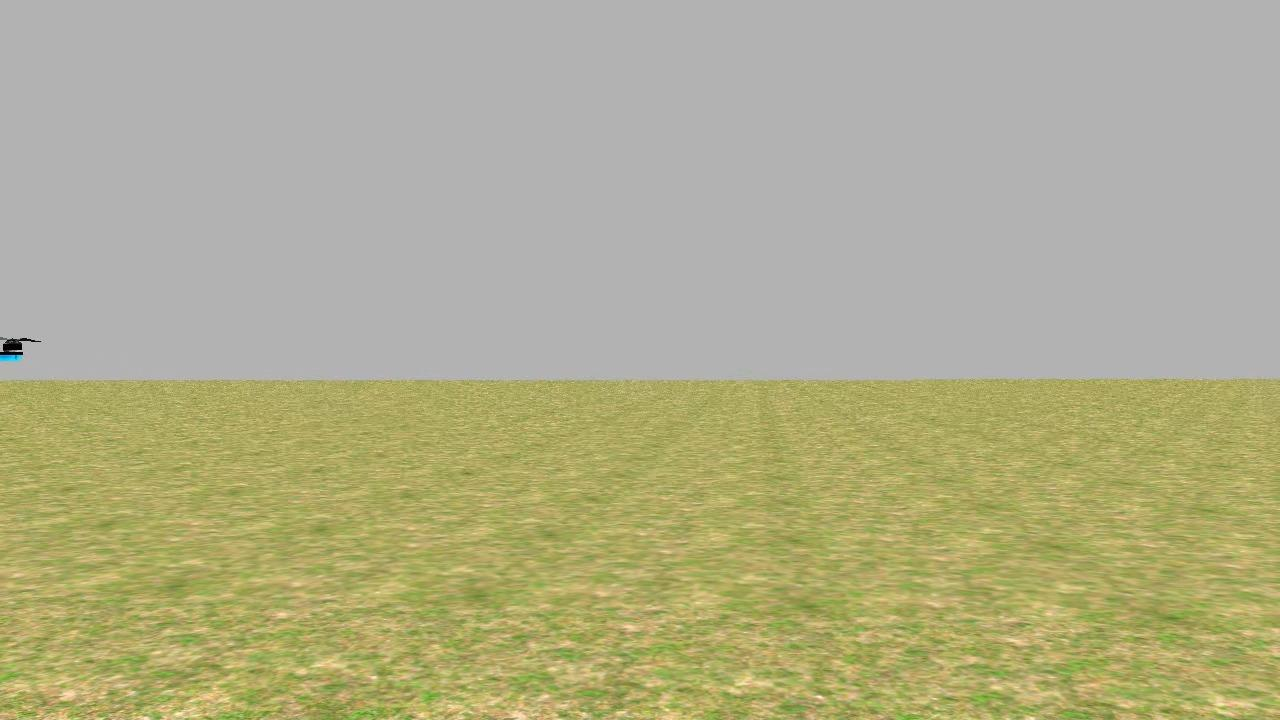UAV: (0, 311, 37, 383)
